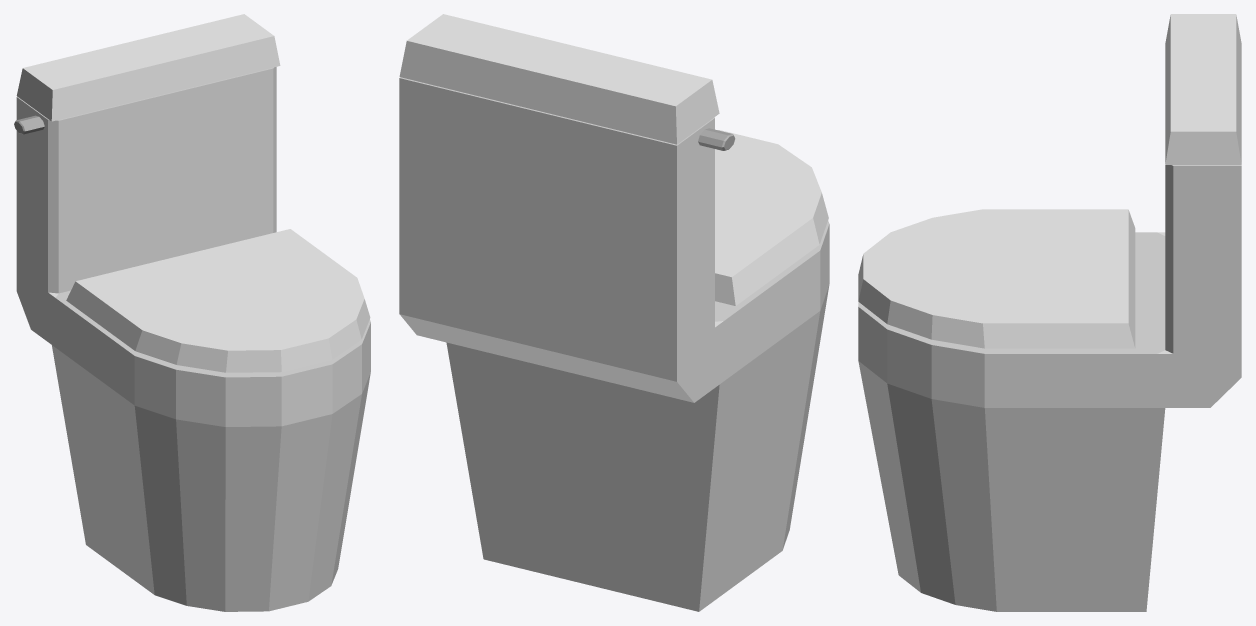
The model's file is toilet_0406.fbx.
3 views of the same model, side by side, from view 1: azimuth 30°, elevation 25°; view 2: azimuth 150°, elevation 25°; view 3: azimuth 270°, elevation 25° (orthographic). The views are drawn at different scales.
Parts seen in each view (by area): view 1: Cylinder001; view 2: Cylinder001; view 3: Cylinder001.
Part boxes in pixels (x1=…): Cylinder001: x1=14, y1=14, x2=370, y2=611; Cylinder001: x1=399, y1=14, x2=829, y2=611; Cylinder001: x1=858, y1=14, x2=1241, y2=611.
Size of the model in its own units: 69.54 by 120 by 85.07.
Materials: 1 (1 with a texture image).
